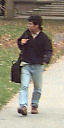person: (11, 17, 49, 116)
